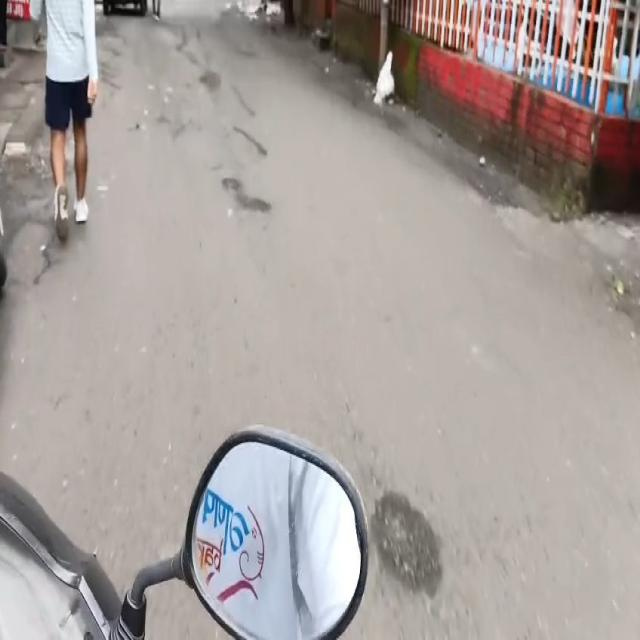road-pothole: (151, 22, 246, 160), (375, 491, 443, 598), (216, 175, 270, 223), (223, 120, 263, 167)
